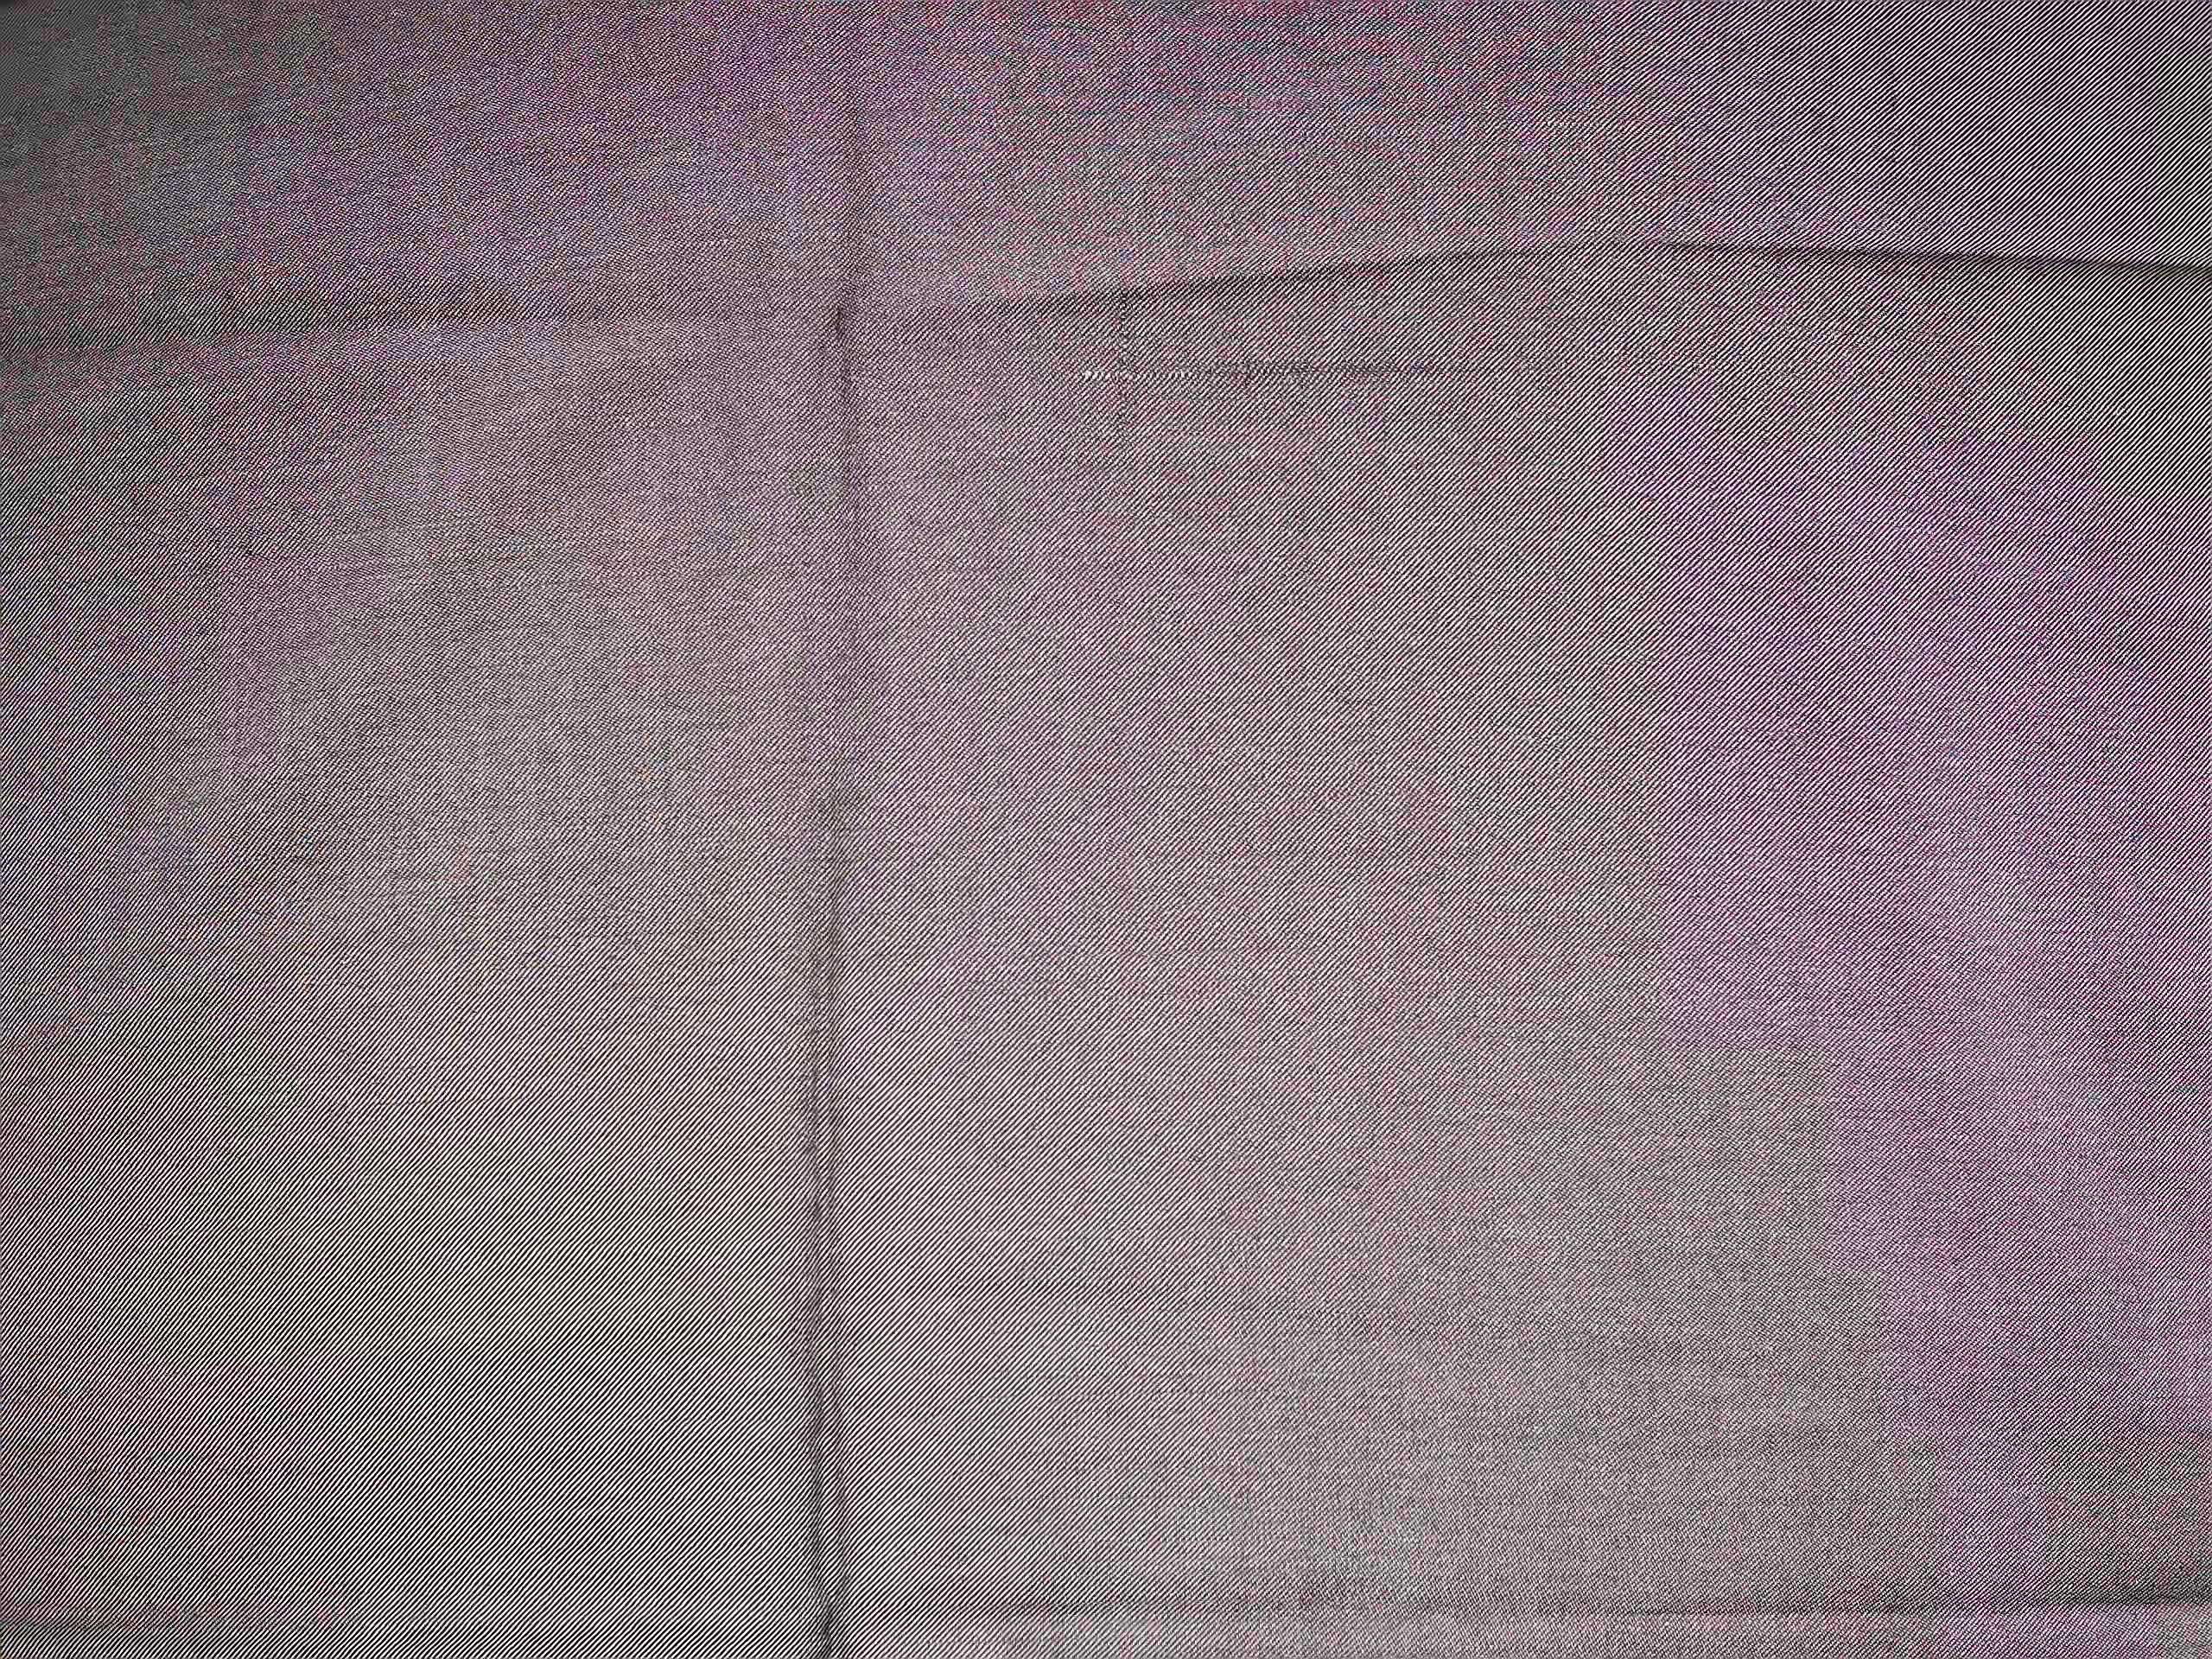jumps: (1055, 338, 1510, 397)
